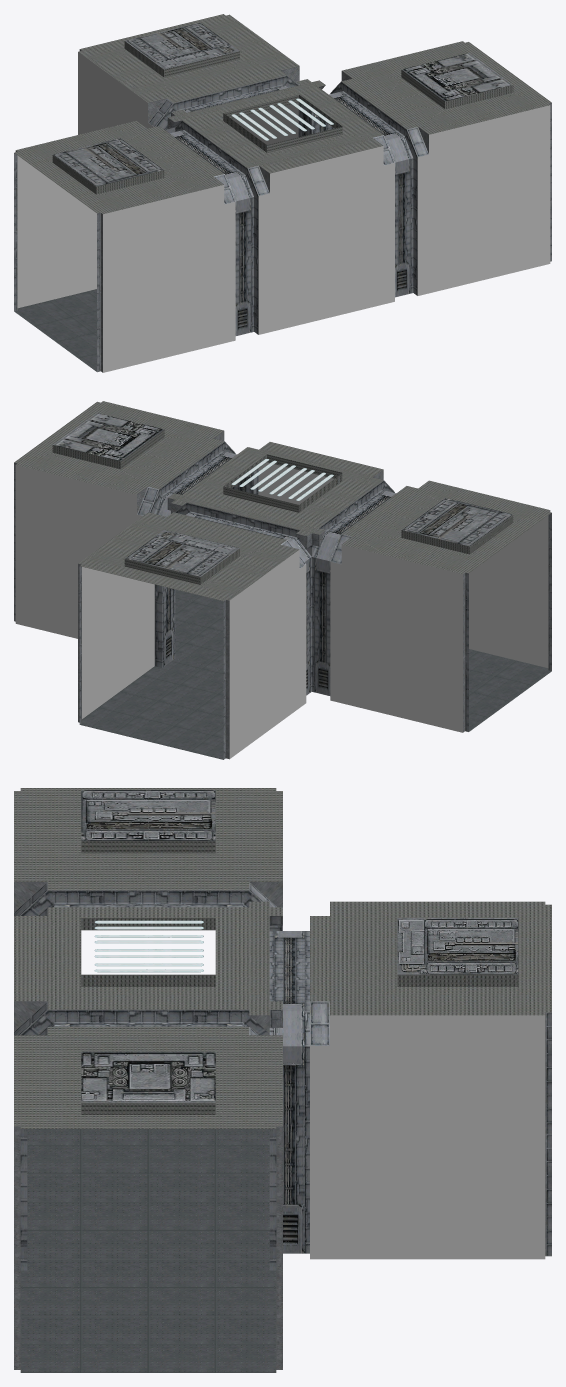
File: poi_all_impl_bunker_small_outpost_s01_r32_intersection1_mesh.fbx
The picture shows the model from 3 angles, top to bottom: view 1: azimuth 30°, elevation 25°; view 2: azimuth 150°, elevation 25°; view 3: azimuth 270°, elevation 25°; orthographic projection. The views are drawn at different scales.
Parts seen in each view (by area): view 1: mesh_node; view 2: mesh_node; view 3: mesh_node.
Boxes of the visible parts, bbox=[...] form: mesh_node: bbox=[14, 14, 551, 372]; mesh_node: bbox=[14, 401, 551, 759]; mesh_node: bbox=[14, 788, 551, 1372].
Bounding box in the file's own units: 12 × 4.2 × 8.
